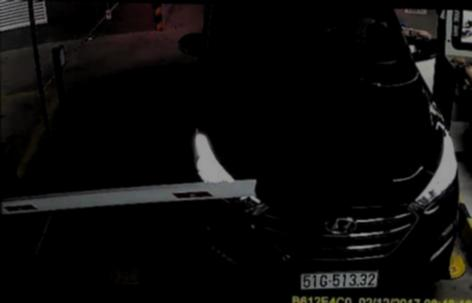License_Plate: (297, 266, 384, 290)
